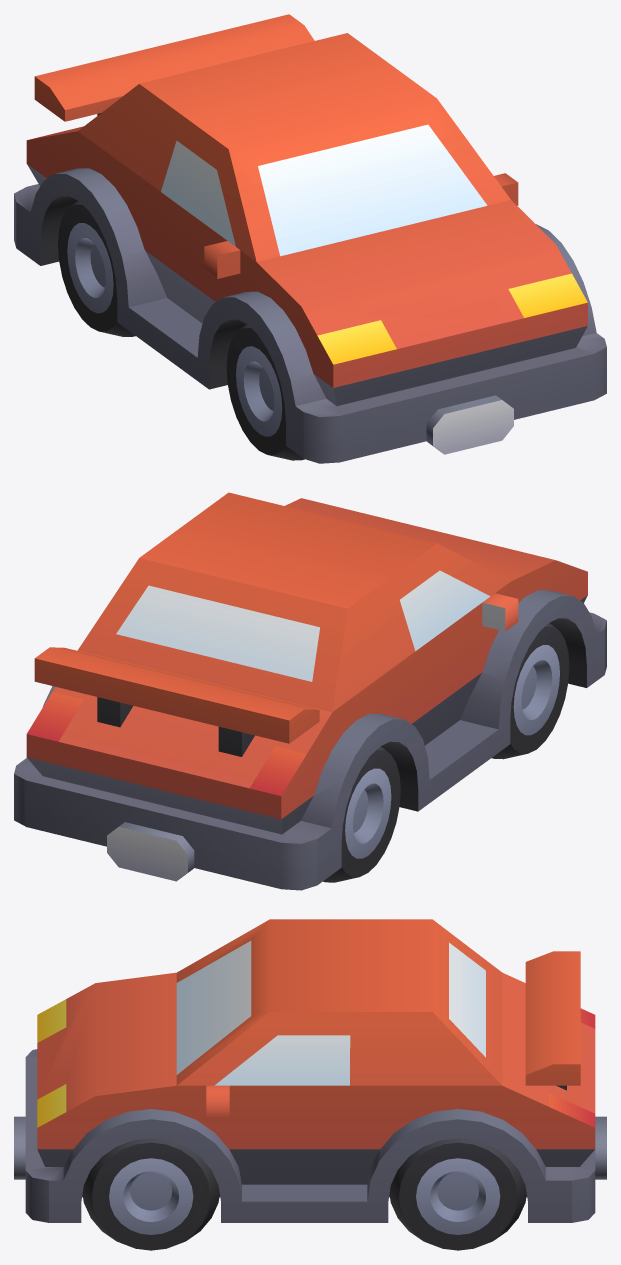
The model's file is car_sports_sedan.glb.
3 views of the same model, one above another, from view 1: azimuth 30°, elevation 25°; view 2: azimuth 150°, elevation 25°; view 3: azimuth 270°, elevation 25° (orthographic). The views are drawn at different scales.
Visible parts, largest first — view 1: wheel-back-right; view 2: wheel-back-right; view 3: wheel-back-right.
Part boxes in pixels (x1=…): wheel-back-right: x1=14, y1=14, x2=606, y2=463; wheel-back-right: x1=14, y1=492, x2=606, y2=890; wheel-back-right: x1=14, y1=919, x2=606, y2=1250.
Bounding box in the file's own units: 1.6 × 1.3 × 3.
1 material, 1 textured.
